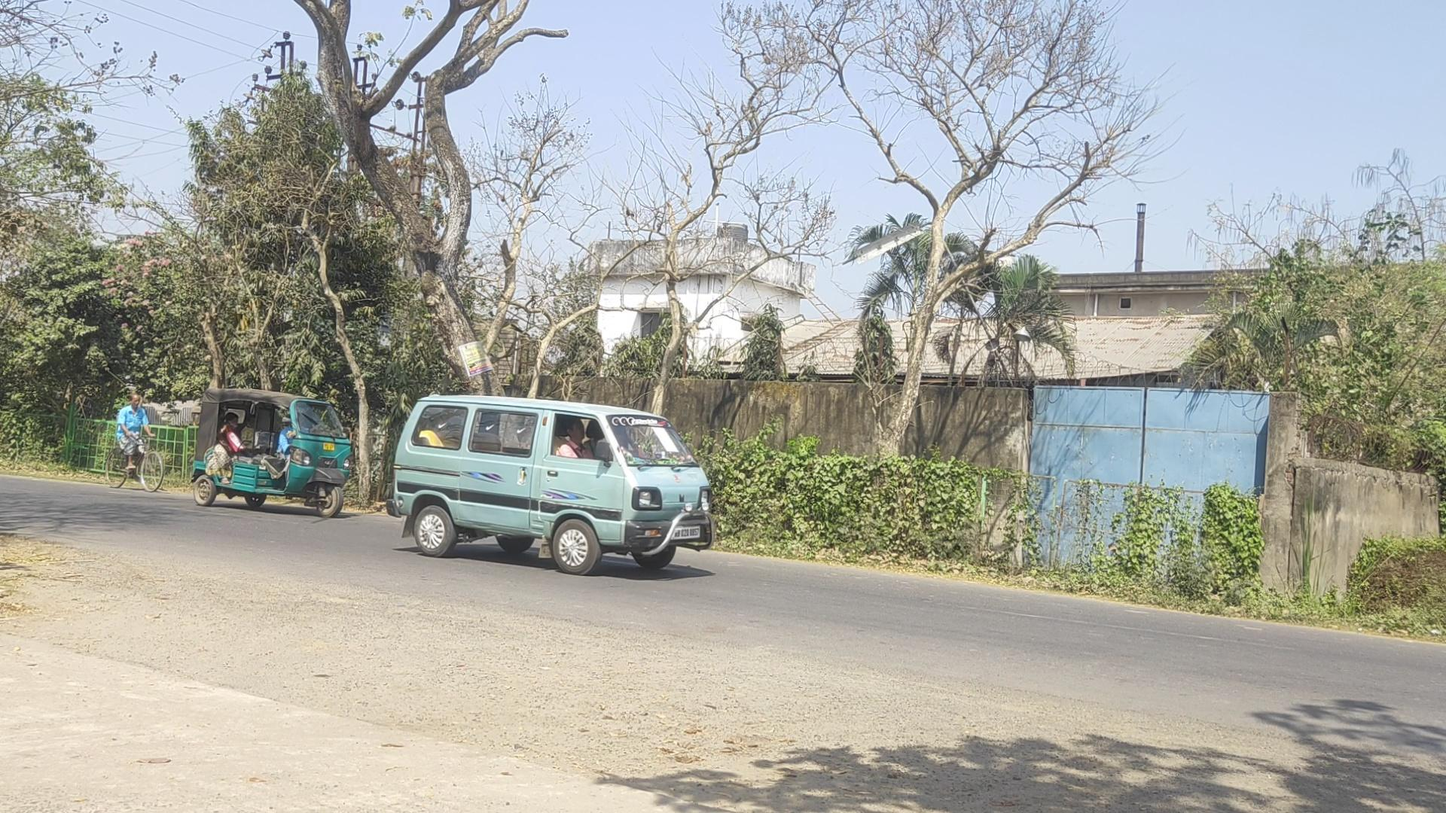Auto: (191, 388, 352, 518)
bike: (105, 394, 164, 493)
van: (386, 394, 715, 575)
